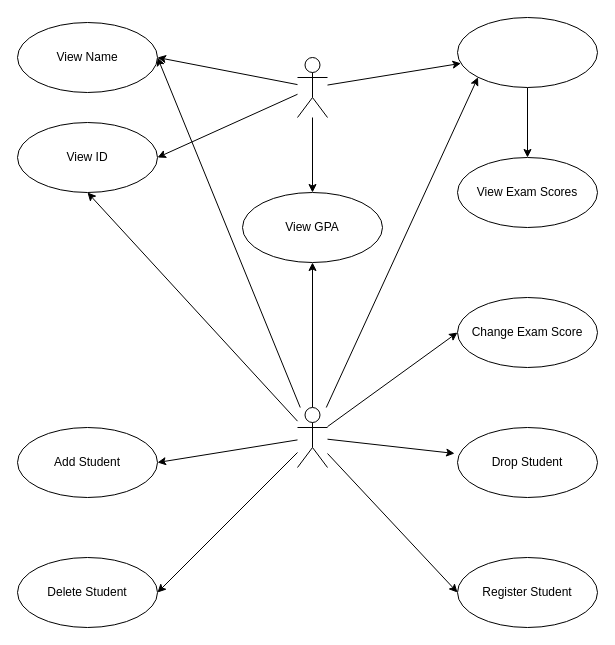
This 615x645 diagram has some shape labels left out. The shapes that lost their labels are listed below. From the top down, each one's centre as x and y in pixels, then its label:
(527,52): View Courses
(312,87): Student
(312,437): Admin
